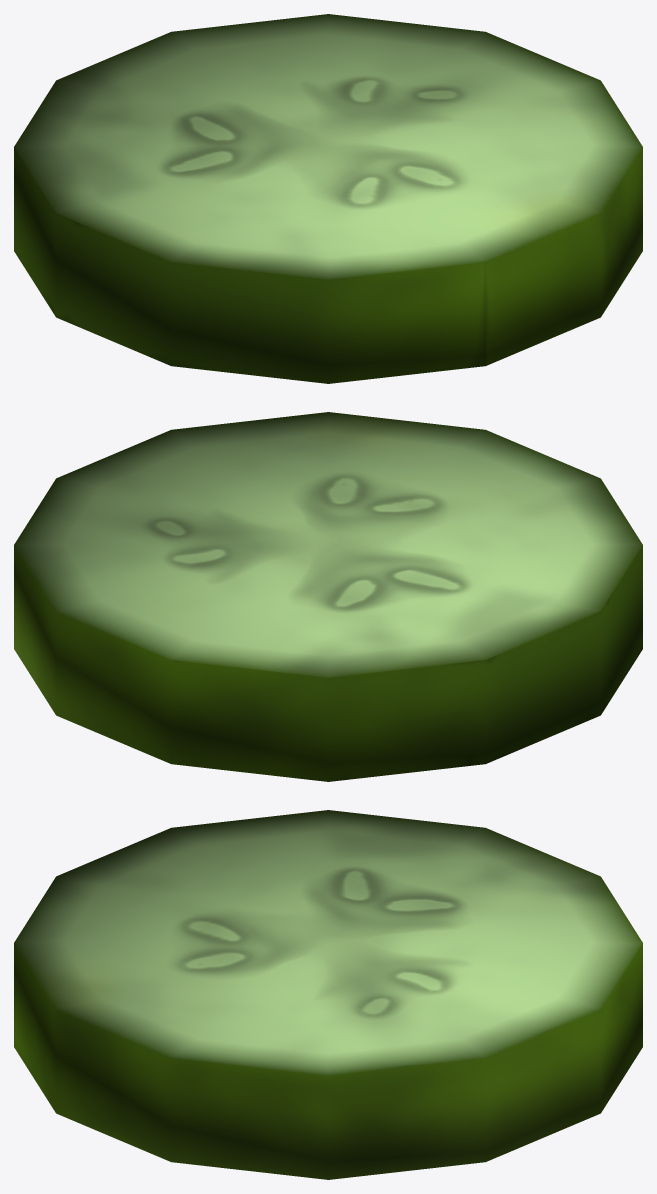
File: CucumberB.glb
3 views of the same model, one above another, from view 1: azimuth 30°, elevation 25°; view 2: azimuth 150°, elevation 25°; view 3: azimuth 270°, elevation 25° (orthographic).
Visible parts, largest first — view 1: CucumberB_Cucumber_0; view 2: CucumberB_Cucumber_0; view 3: CucumberB_Cucumber_0.
Boxes of the visible parts, left/top/right/bottom form: CucumberB_Cucumber_0: left=14, top=14, right=642, bottom=383; CucumberB_Cucumber_0: left=14, top=412, right=642, bottom=781; CucumberB_Cucumber_0: left=14, top=810, right=642, bottom=1179.
Bounding box in the file's own units: 0.4857 × 0.095 × 0.4857.
Materials: 1 (1 with a texture image).
